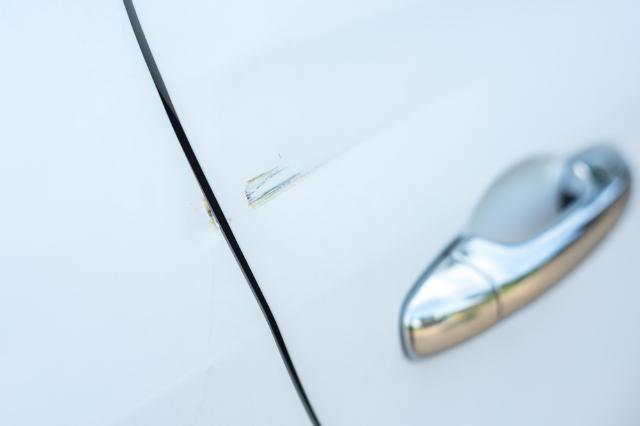scratch: (245, 135, 374, 213)
